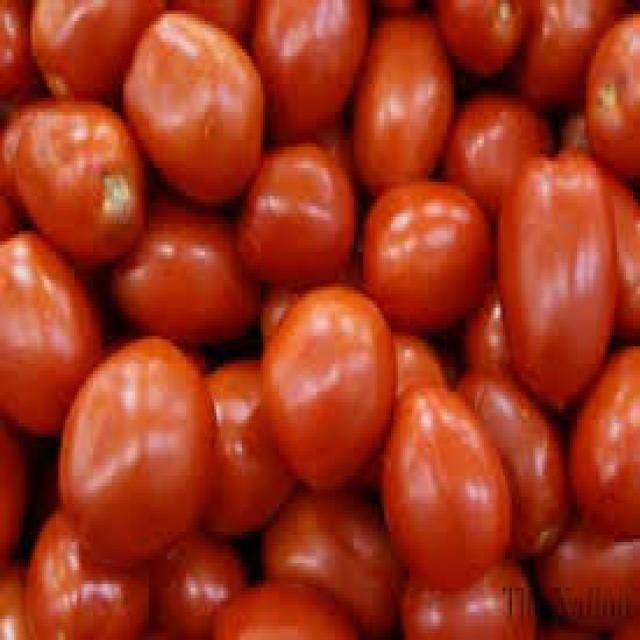Fresh_tomato: (57, 340, 229, 549), (400, 385, 521, 573), (278, 307, 402, 468), (140, 26, 260, 185), (375, 183, 494, 328), (144, 219, 269, 350), (29, 99, 134, 246), (259, 5, 379, 119), (266, 165, 358, 282)
